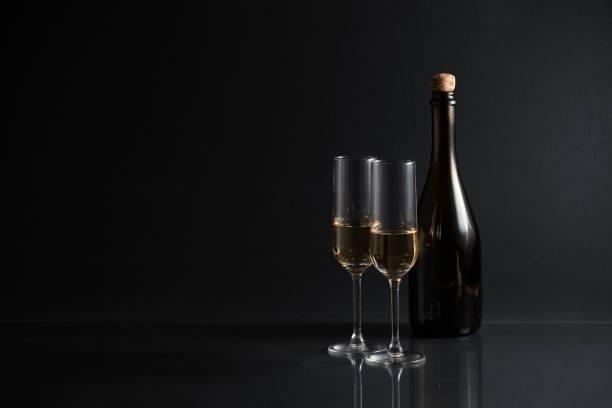bottle-glass: (409, 71, 485, 339)
glass-wine: (327, 151, 396, 358), (359, 152, 424, 364)
